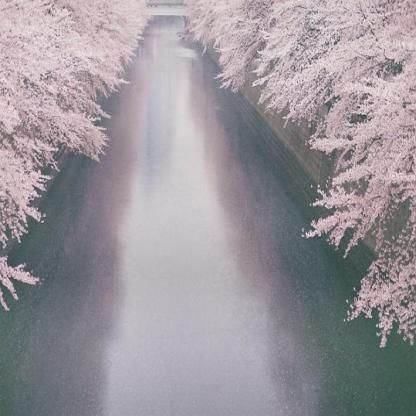Someiyoshino: (290, 1, 416, 352), (179, 1, 415, 103), (0, 2, 148, 160), (1, 0, 59, 321)
